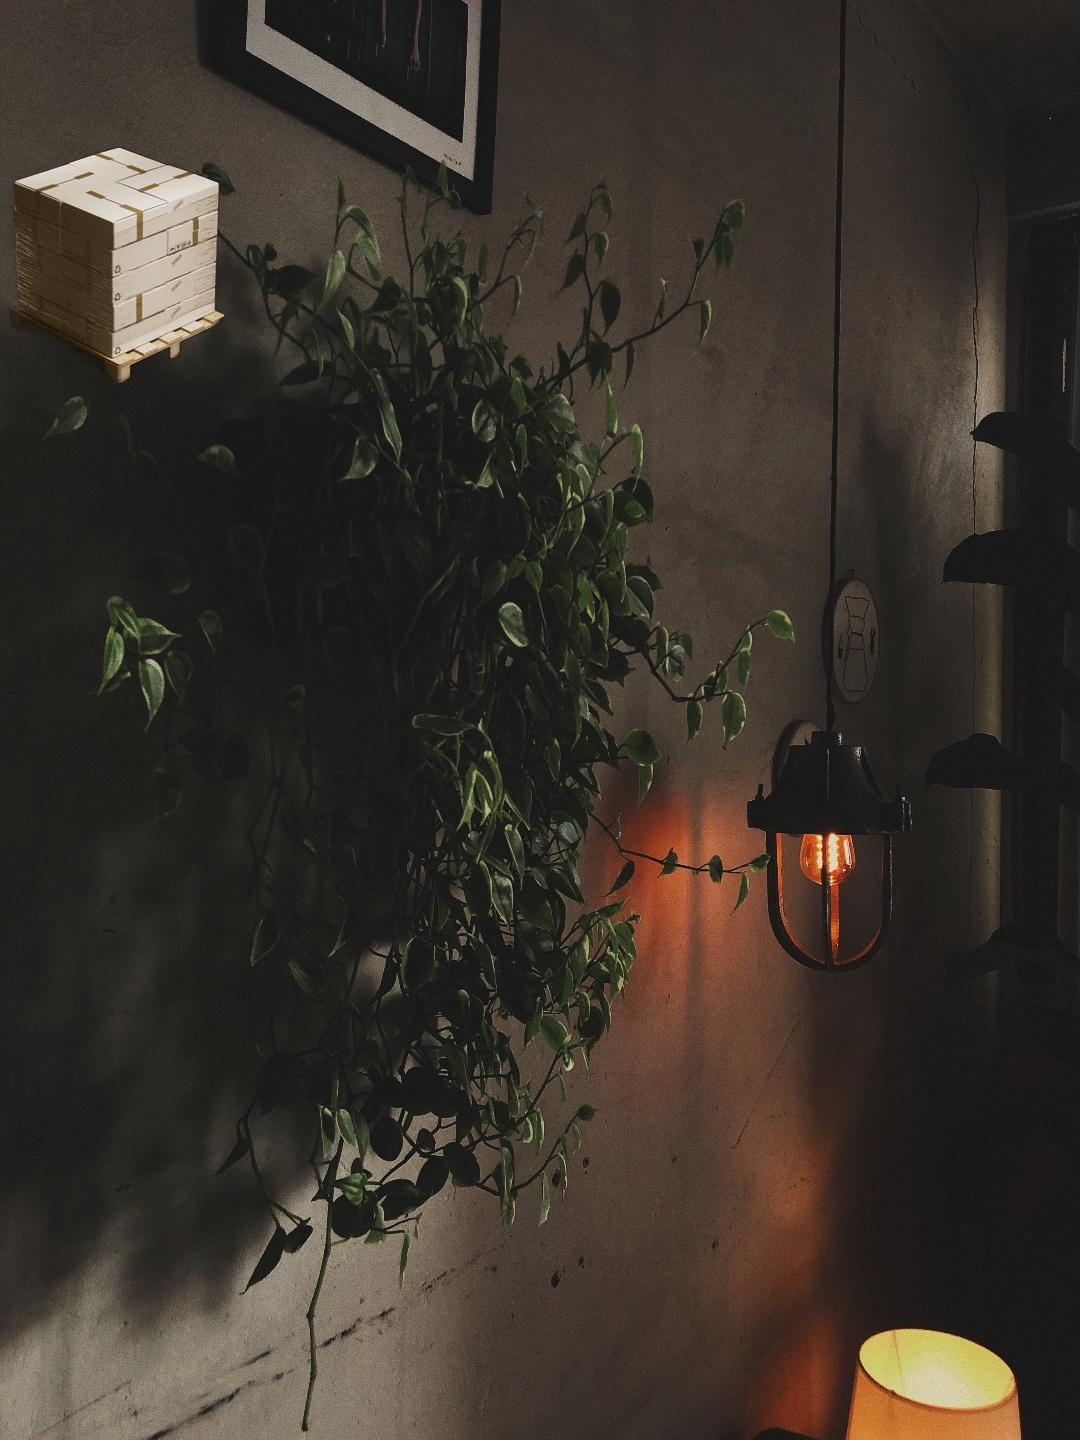trashbox-cardboard: (5, 145, 229, 387)
